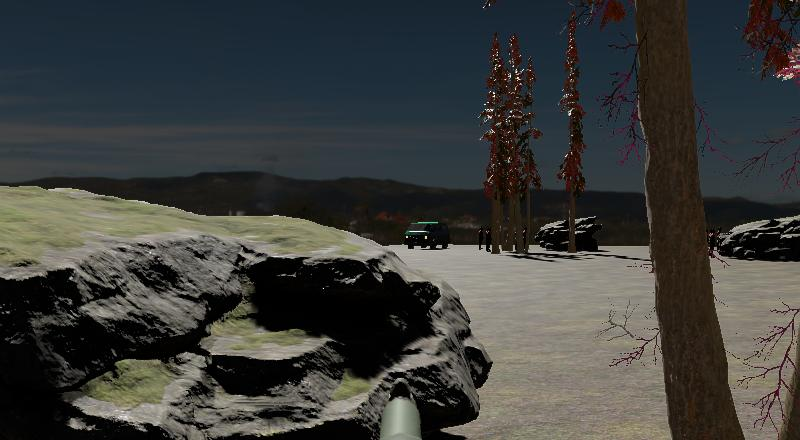car: (402, 218, 452, 252)
